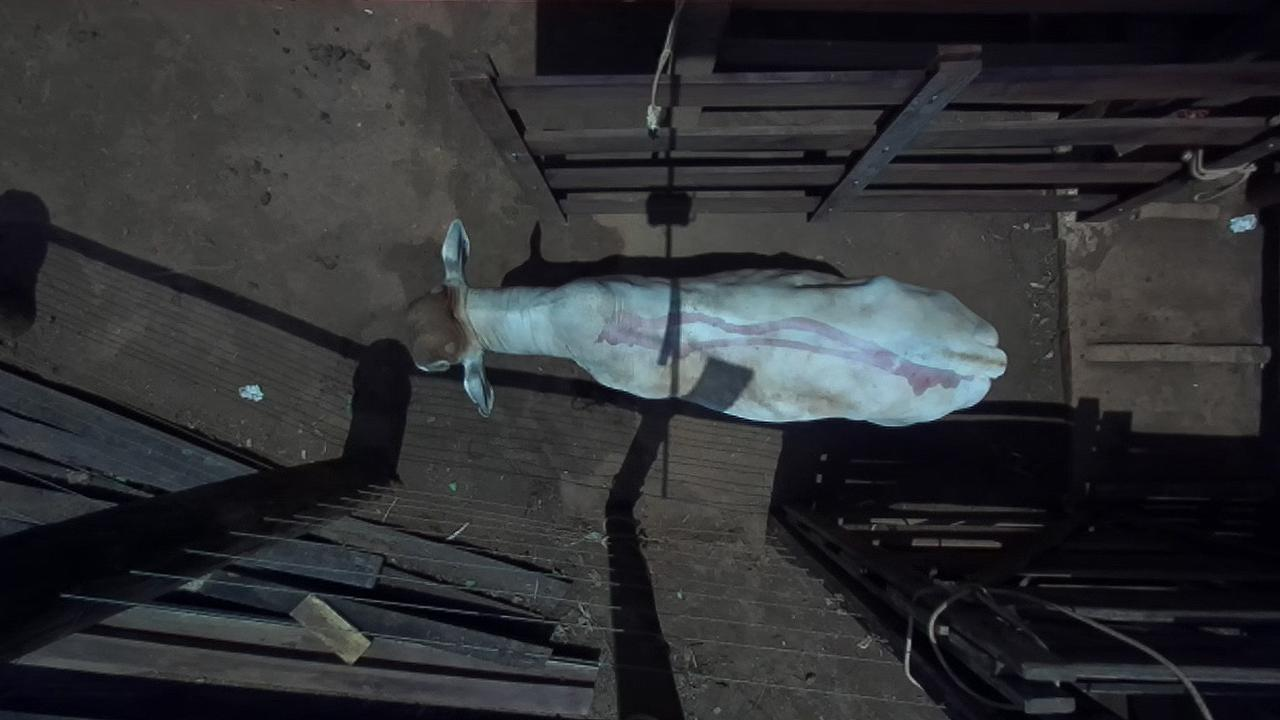cattle: (403, 217, 1008, 428)
